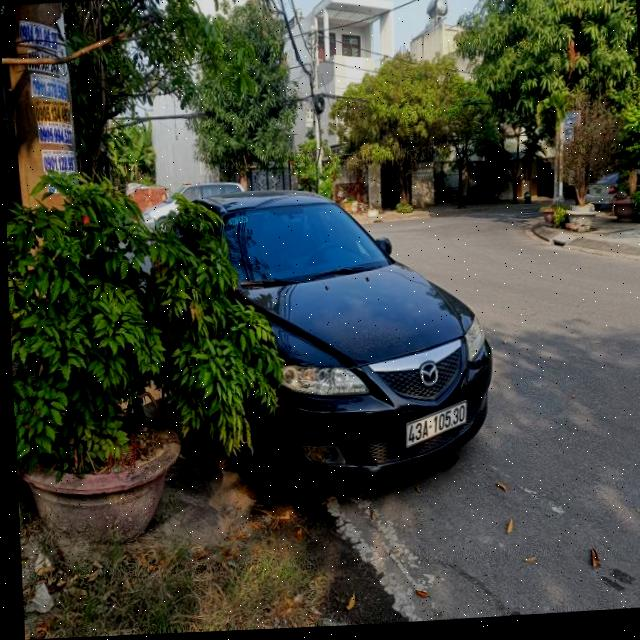car: (208, 175, 500, 501)
plate: (402, 397, 471, 451)
